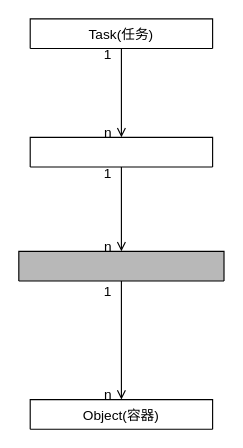
Some shapes in this 243 by 448 pixel diagram are drawn without their labels. The shapes that lost their labels are listed below. From the top down, each one's centre as x and y in pixels, then its label:
At point (121, 151): "Config(配置)".
At point (121, 265): "Matcher(具体对象，四层模型)".
